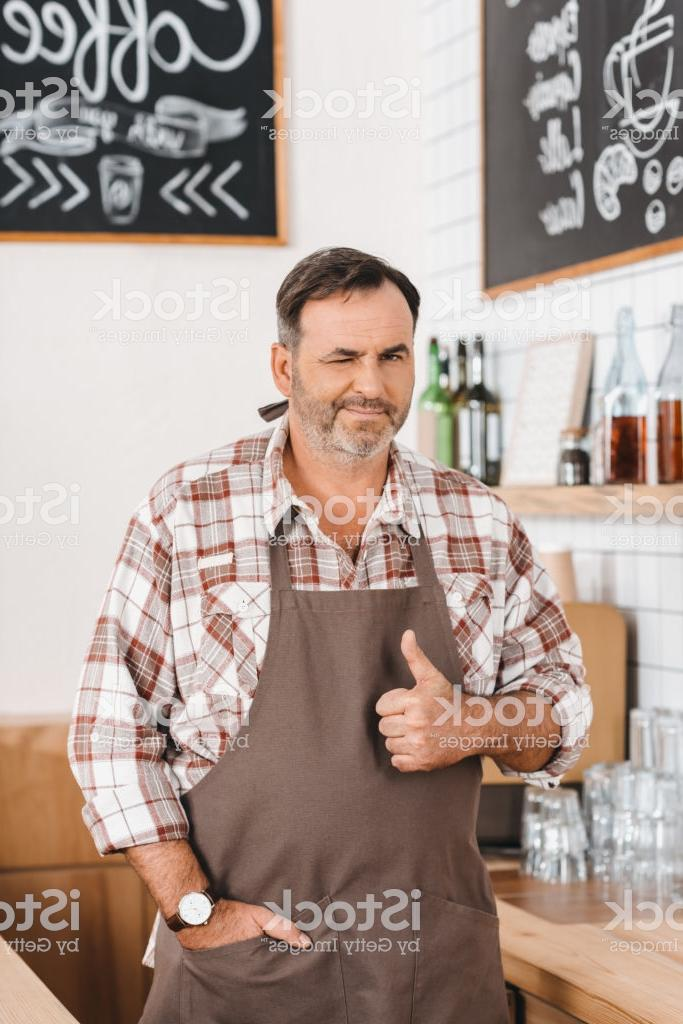thumbsup: (373, 628, 460, 774)
